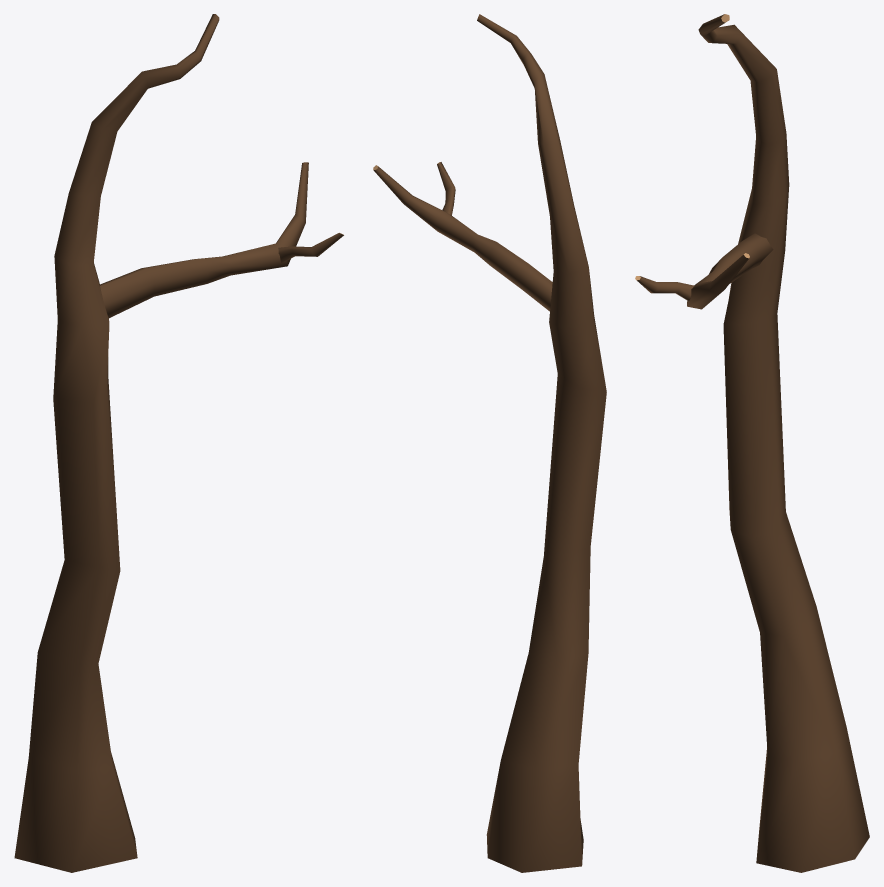
The model's file is Lamp_Road_E.fbx.
The picture shows the model from 3 angles, left to right: view 1: azimuth 30°, elevation 25°; view 2: azimuth 150°, elevation 25°; view 3: azimuth 270°, elevation 25°; orthographic projection. The views are drawn at different scales.
Visible parts, largest first — view 1: Lamp_Road_E; view 2: Lamp_Road_E; view 3: Lamp_Road_E.
Part boxes in pixels (bbox=[...]): Lamp_Road_E: bbox=[14, 14, 343, 872]; Lamp_Road_E: bbox=[373, 14, 606, 872]; Lamp_Road_E: bbox=[635, 14, 869, 872].
Bounding box in the file's own units: 151 × 470 × 113.
